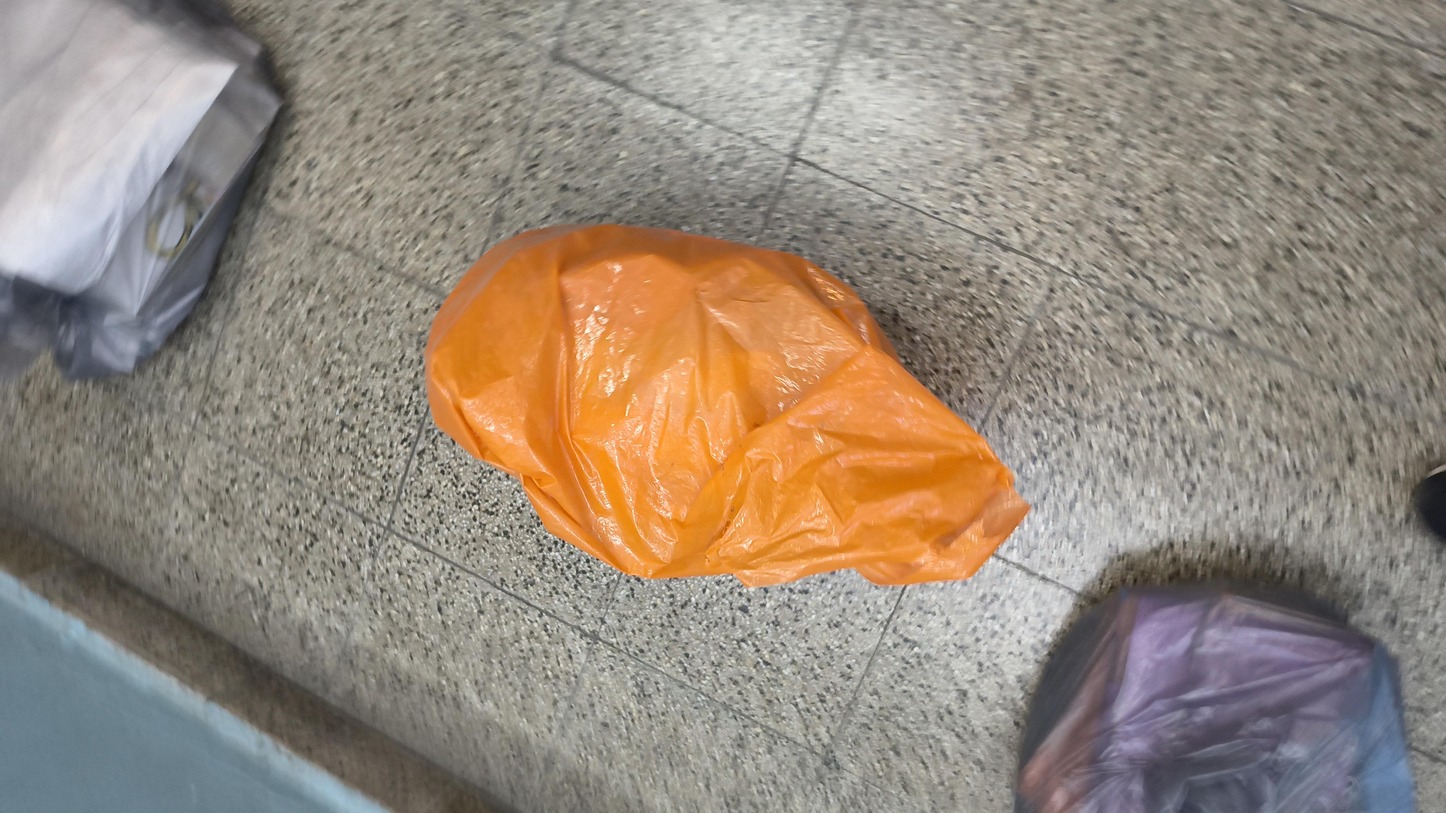Garbage: (408, 175, 1061, 653), (5, 0, 482, 254)
